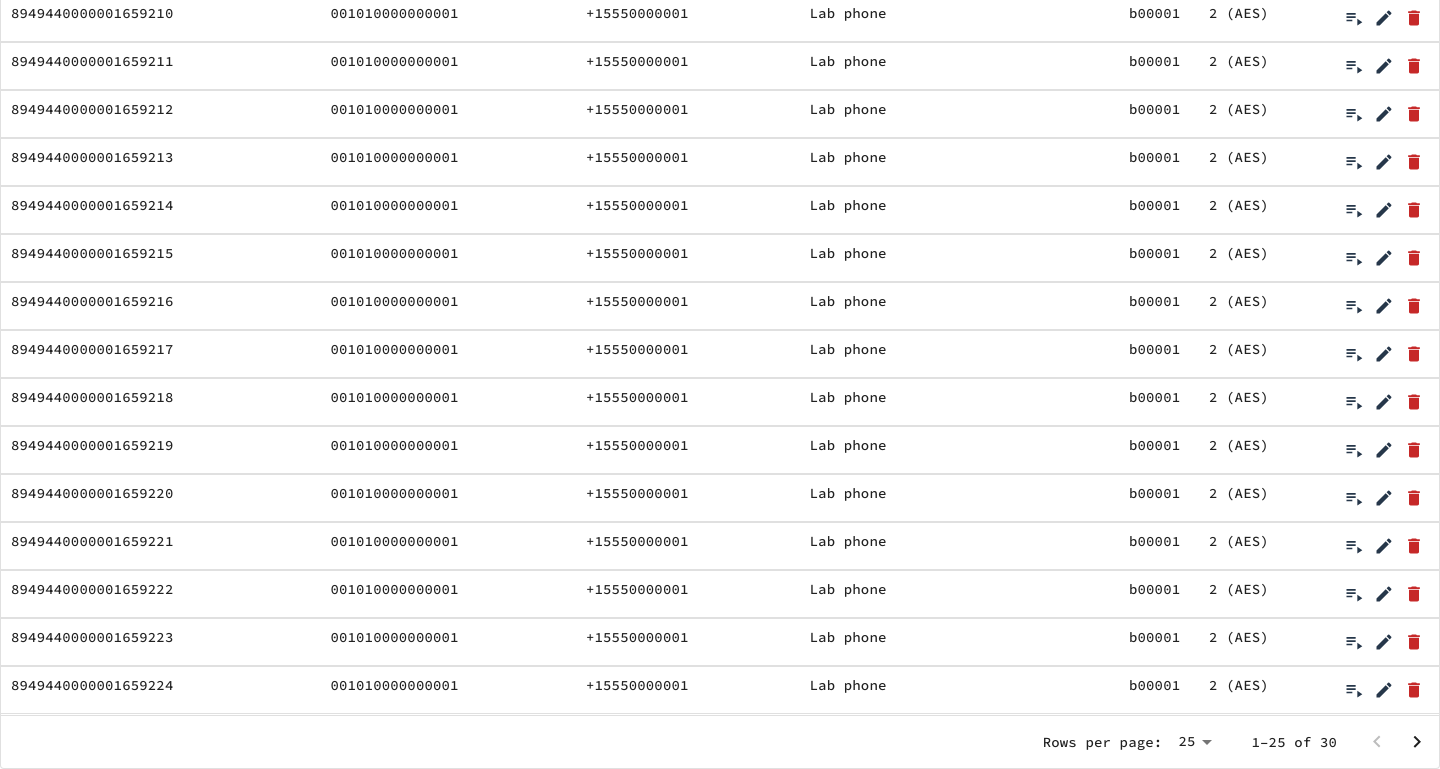
Test: Cards › pages the cards on the server
The width and height of the screenshot is (1440, 769).
(page scrolled)
Check: the text "1–25 of 30" is shown, box [1252,732,1337,752]
Check: the text "8949440000001659224" is shown, box [1,666,320,714]
Click the button named "Go to next page" at (1417, 742), box [1397,722,1437,762]
(page scrolled)
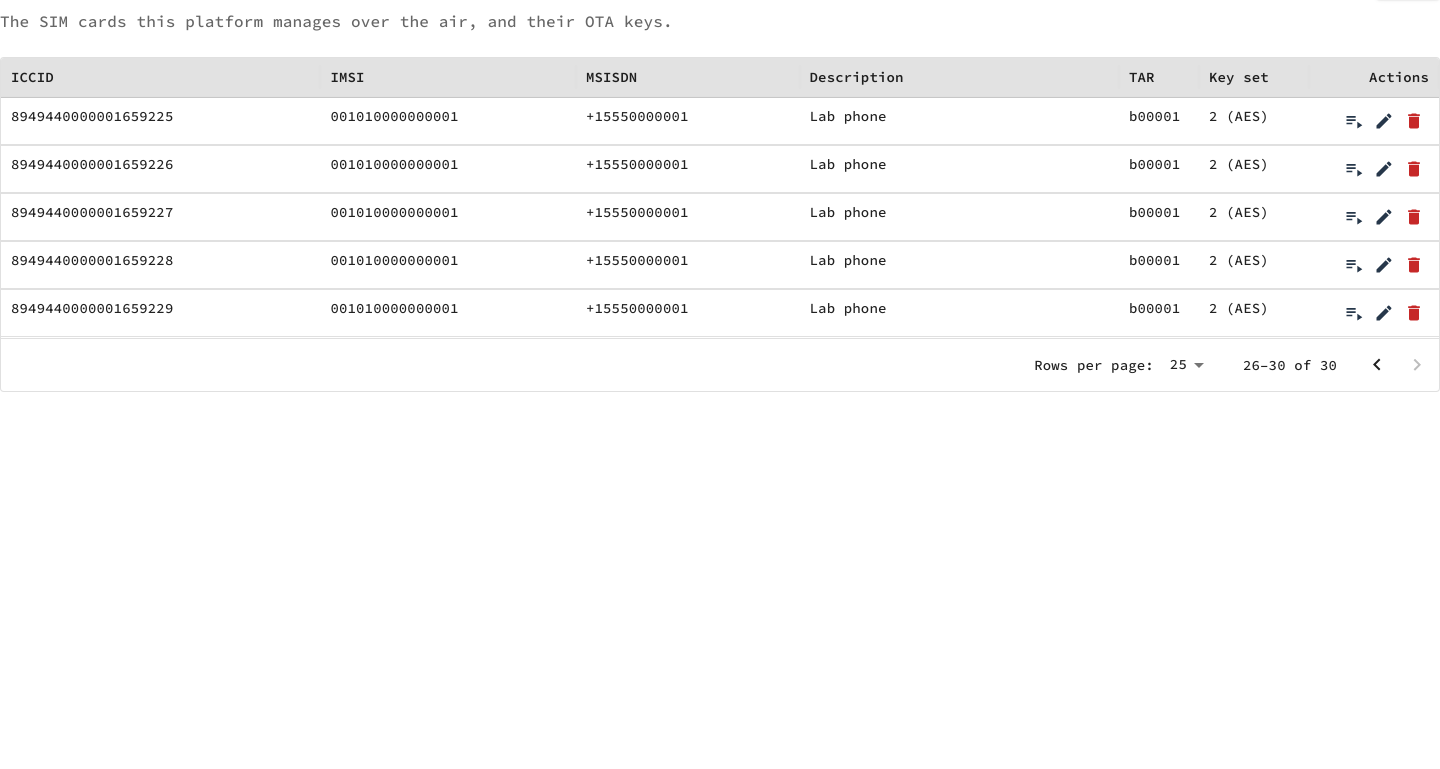
Check: the text "26–30 of 30" is shown, box [1243,355,1337,375]
